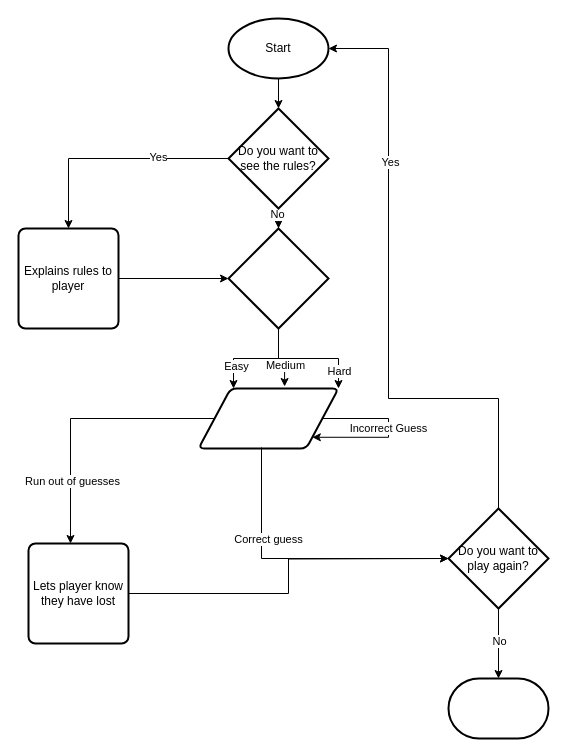
Image size: 566x756. Some labels were removed from this diagram. The shapes that lost their labels are listed below. From the top down, each one's box as (x1, y1, x2, y2) in pixels, then its label:
(227, 227, 329, 329): Select difficulty
(197, 387, 339, 449): Guess a number
(447, 677, 549, 739): End
